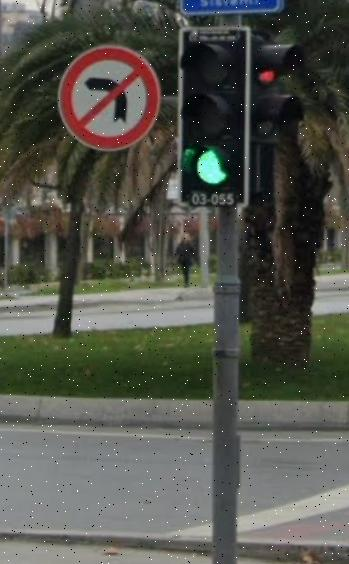greenlight: (182, 22, 255, 203)
leftturnsareforbidden: (61, 47, 160, 152)
